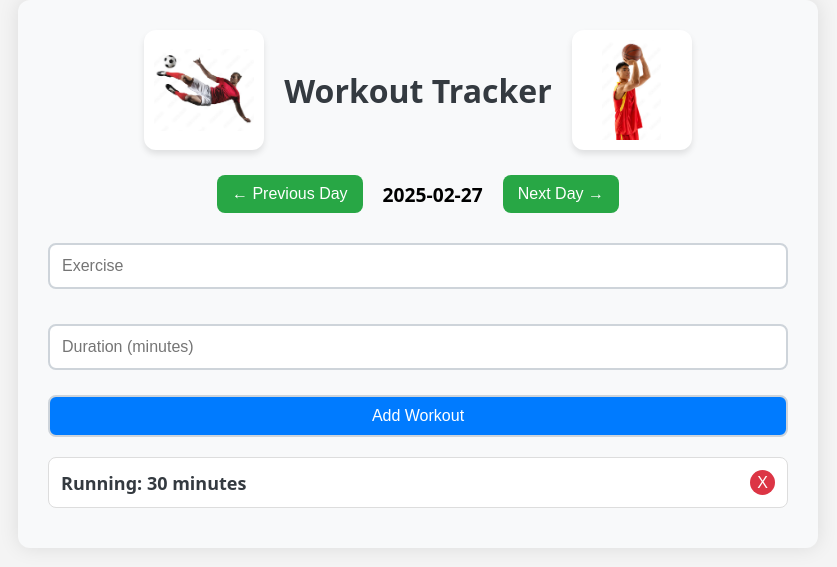
WorkoutTracker Component › navigates between days
Expected: the text "Running: 30 minutes" is shown, [61,470,246,494]
// Navigate to yesterday
Click the button "← Previous Day". click: (290, 194)
box: [217,175,363,213]
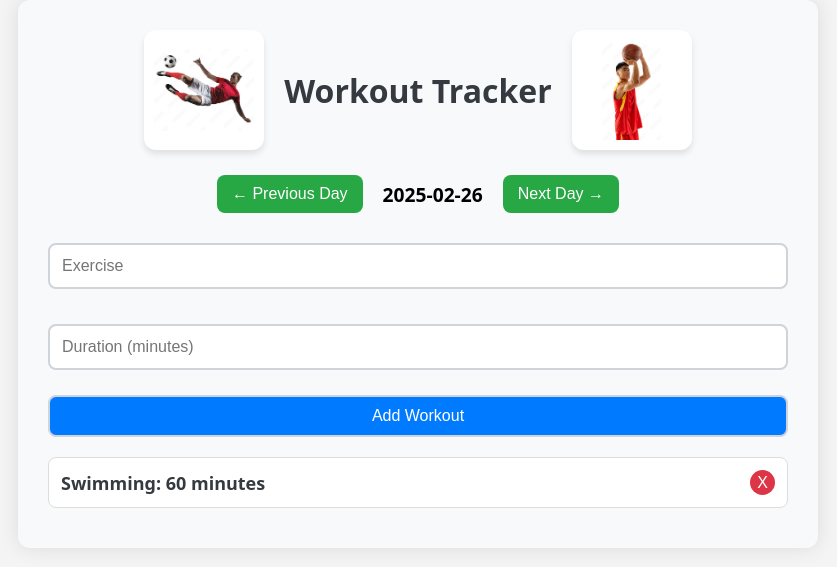
Expected: the text "Running: 30 minutes" is gone
Expected: the text "Swimming: 60 minutes" is shown, [61,470,265,494]
